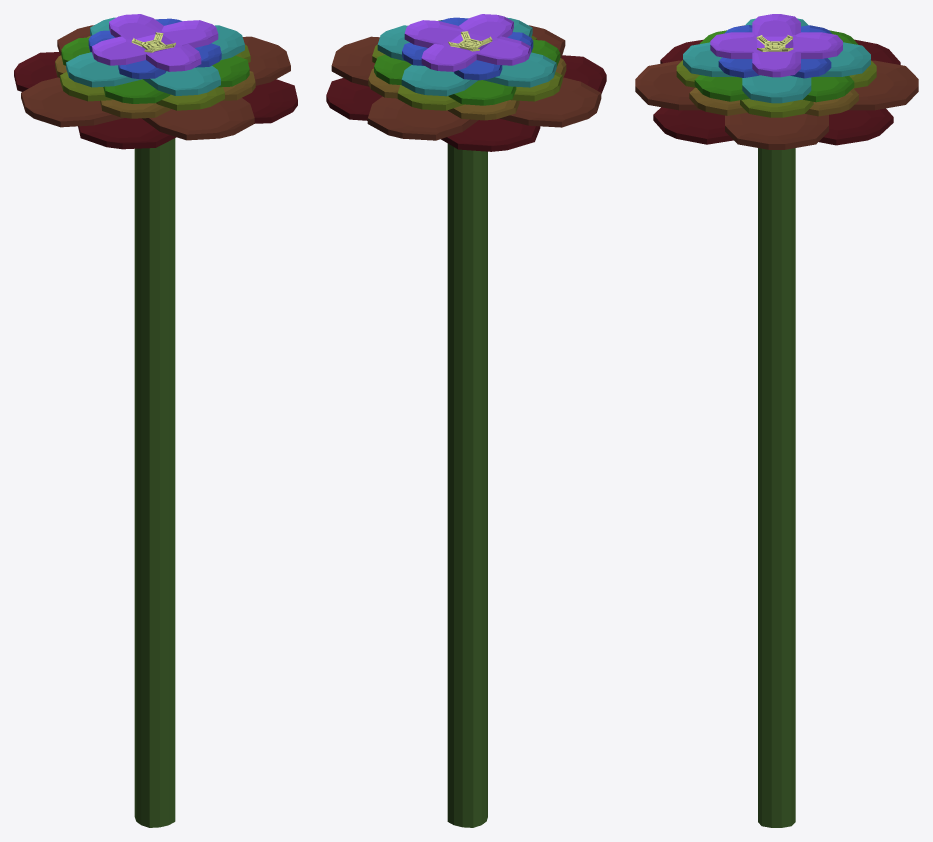
File: Flower.fbx
3 views of the same model, side by side, from view 1: azimuth 30°, elevation 25°; view 2: azimuth 150°, elevation 25°; view 3: azimuth 270°, elevation 25° (orthographic).
Parts seen in each view (by area): view 1: Cube, Cube.005, Cube.001, Cube.006, Cube.004, Cube.003, Cube.008, Cube.007, Cube.002; view 2: Cube, Cube.005, Cube.001, Cube.006, Cube.004, Cube.003, Cube.008, Cube.007, Cube.002; view 3: Cube, Cube.005, Cube.001, Cube.006, Cube.004, Cube.003, Cube.008, Cube.007, Cube.002.
Part boxes in pixels (<box>): Cube: <box>134,138,175,827</box>; Cube.005: <box>21,25,290,140</box>; Cube.001: <box>92,14,218,71</box>; Cube.006: <box>14,52,297,149</box>; Cube.004: <box>66,17,244,95</box>; Cube.003: <box>61,37,249,103</box>; Cube.008: <box>60,35,250,110</box>; Cube.007: <box>55,55,255,118</box>; Cube.002: <box>88,18,221,79</box>; Cube: <box>447,143,487,827</box>; Cube.005: <box>331,25,601,140</box>; Cube.001: <box>404,14,530,71</box>; Cube.006: <box>326,55,606,151</box>; Cube.004: <box>377,17,556,96</box>; Cube.003: <box>374,20,560,105</box>; Cube.008: <box>372,35,562,110</box>; Cube.007: <box>368,58,566,120</box>; Cube.002: <box>402,17,533,80</box>; Cube: <box>758,148,795,827</box>; Cube.005: <box>635,25,918,149</box>; Cube.001: <box>710,14,842,77</box>; Cube.006: <box>653,39,900,145</box>; Cube.004: <box>683,18,870,103</box>; Cube.003: <box>694,30,858,102</box>; Cube.008: <box>676,60,876,117</box>; Cube.007: <box>689,87,858,116</box>; Cube.002: <box>718,25,831,78</box>.
Size of the model in its own units: 274 by 808 by 267.
